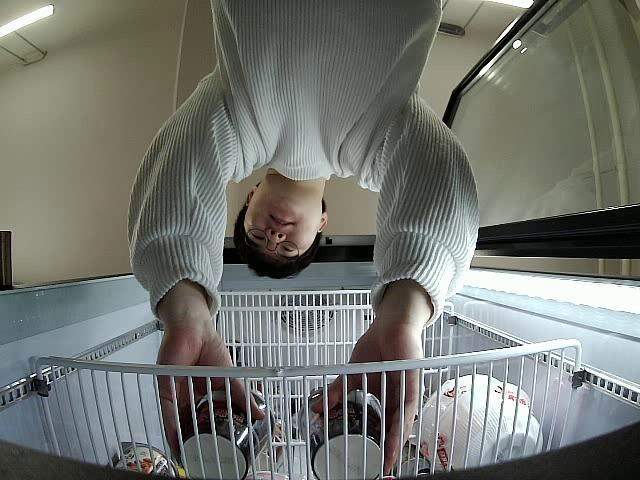08_buldak_S: (180, 386, 272, 480), (300, 386, 386, 480)
